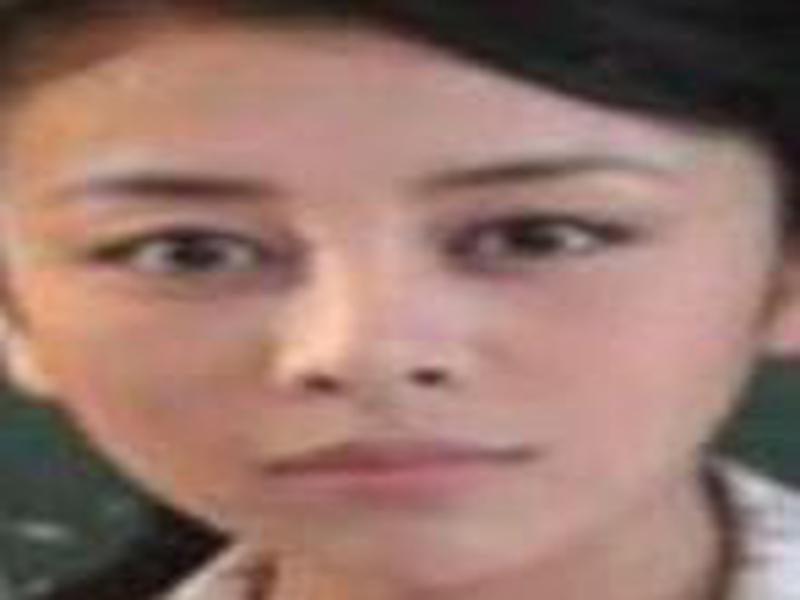without_mask: (4, 63, 761, 587)
